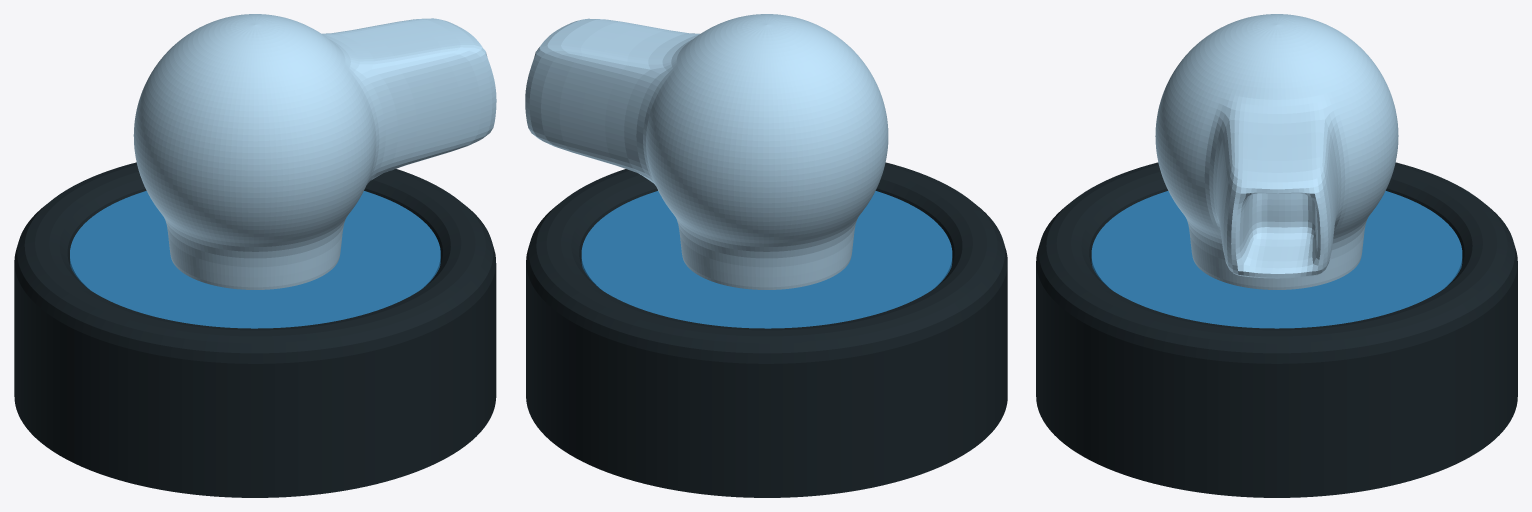
The model's file is basic_cell.fbx.
3 renders of one model, left to right at view 1: azimuth 30°, elevation 25°; view 2: azimuth 150°, elevation 25°; view 3: azimuth 270°, elevation 25°, orthographic.
Visible parts, largest first — view 1: Shell, Turret, Base; view 2: Shell, Turret, Base; view 3: Shell, Turret, Base.
Part boxes in pixels (bbox=[...]): Shell: bbox=[14, 162, 496, 497]; Turret: bbox=[133, 14, 496, 289]; Base: bbox=[70, 191, 440, 328]; Shell: bbox=[526, 162, 1007, 497]; Turret: bbox=[525, 14, 888, 289]; Base: bbox=[581, 191, 952, 328]; Shell: bbox=[1036, 162, 1517, 497]; Turret: bbox=[1155, 14, 1398, 289]; Base: bbox=[1091, 191, 1462, 328].
Size of the model in its own units: 100 by 103 by 85.04.
